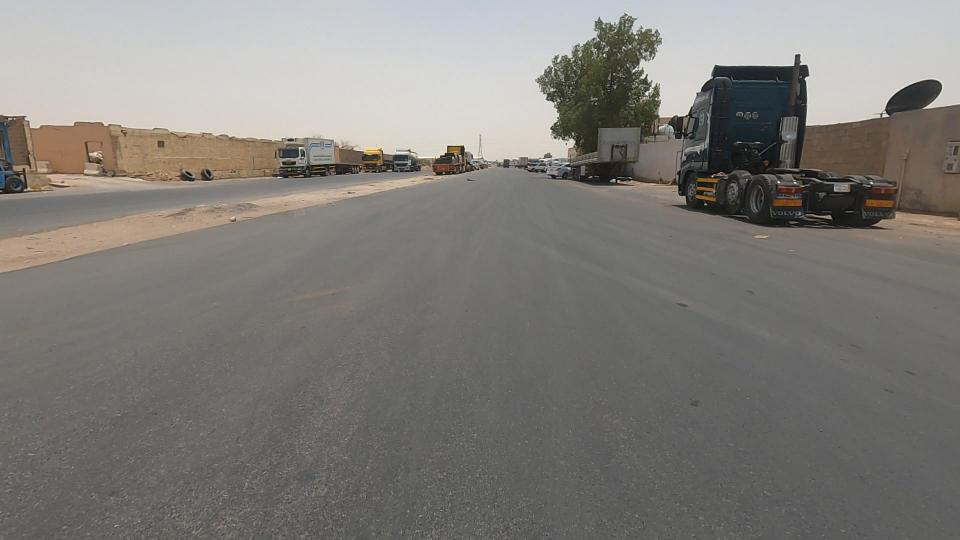CLUTTER_SIDEWALK: (0, 185, 297, 289), (173, 180, 356, 240), (307, 160, 450, 211)
GARBAGE: (155, 150, 229, 202), (180, 151, 231, 193), (729, 214, 774, 260)
